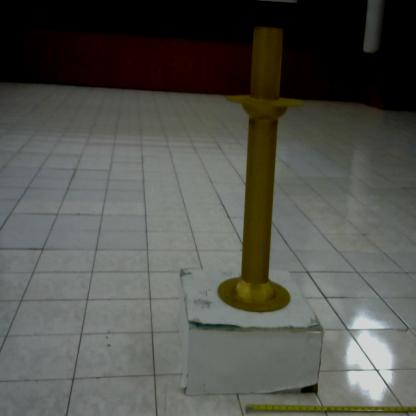pole: (210, 16, 304, 322)
